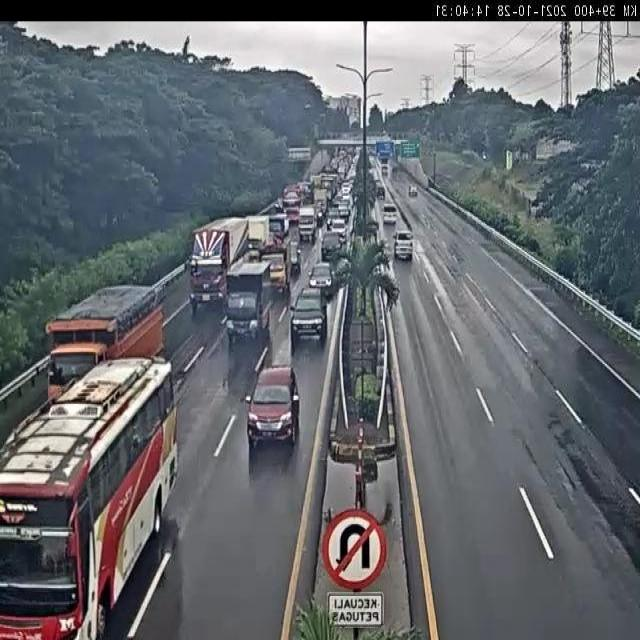Car: (1, 272, 174, 630), (225, 342, 319, 480), (290, 286, 328, 348), (394, 230, 414, 260)
Truck: (46, 282, 162, 400), (188, 223, 234, 314), (223, 263, 271, 346), (324, 499, 390, 530), (258, 243, 291, 295), (246, 215, 273, 258), (392, 138, 420, 172), (307, 262, 332, 293), (320, 231, 343, 262), (268, 210, 290, 242), (354, 469, 370, 513), (332, 257, 351, 294), (378, 272, 394, 314), (298, 205, 316, 242), (312, 186, 329, 222), (360, 452, 378, 485), (328, 216, 348, 244), (371, 260, 389, 288), (372, 164, 386, 200), (283, 183, 303, 208), (301, 286, 323, 306), (344, 149, 358, 180), (322, 277, 336, 307), (311, 173, 327, 199), (369, 136, 392, 154), (289, 238, 301, 272), (288, 146, 312, 163), (433, 171, 453, 190), (326, 179, 340, 206), (284, 203, 300, 226), (336, 203, 351, 226), (382, 203, 398, 224), (364, 220, 378, 243), (580, 159, 604, 172), (334, 140, 360, 152), (222, 361, 232, 392), (298, 181, 313, 201), (337, 159, 351, 180), (461, 148, 481, 162), (529, 201, 544, 219), (158, 277, 169, 300), (340, 184, 352, 204), (369, 153, 380, 174), (340, 132, 362, 142), (364, 142, 378, 157), (383, 161, 394, 180), (327, 212, 338, 230), (358, 151, 367, 171), (447, 263, 459, 277), (381, 240, 390, 258), (369, 168, 378, 185), (184, 255, 192, 274), (312, 122, 319, 143), (322, 164, 334, 176), (427, 176, 437, 190), (394, 141, 402, 158), (273, 200, 284, 212), (350, 117, 359, 131), (408, 185, 418, 197), (506, 150, 512, 170), (380, 155, 389, 166), (381, 164, 388, 176), (308, 270, 314, 284), (415, 142, 421, 156), (382, 129, 387, 136)
